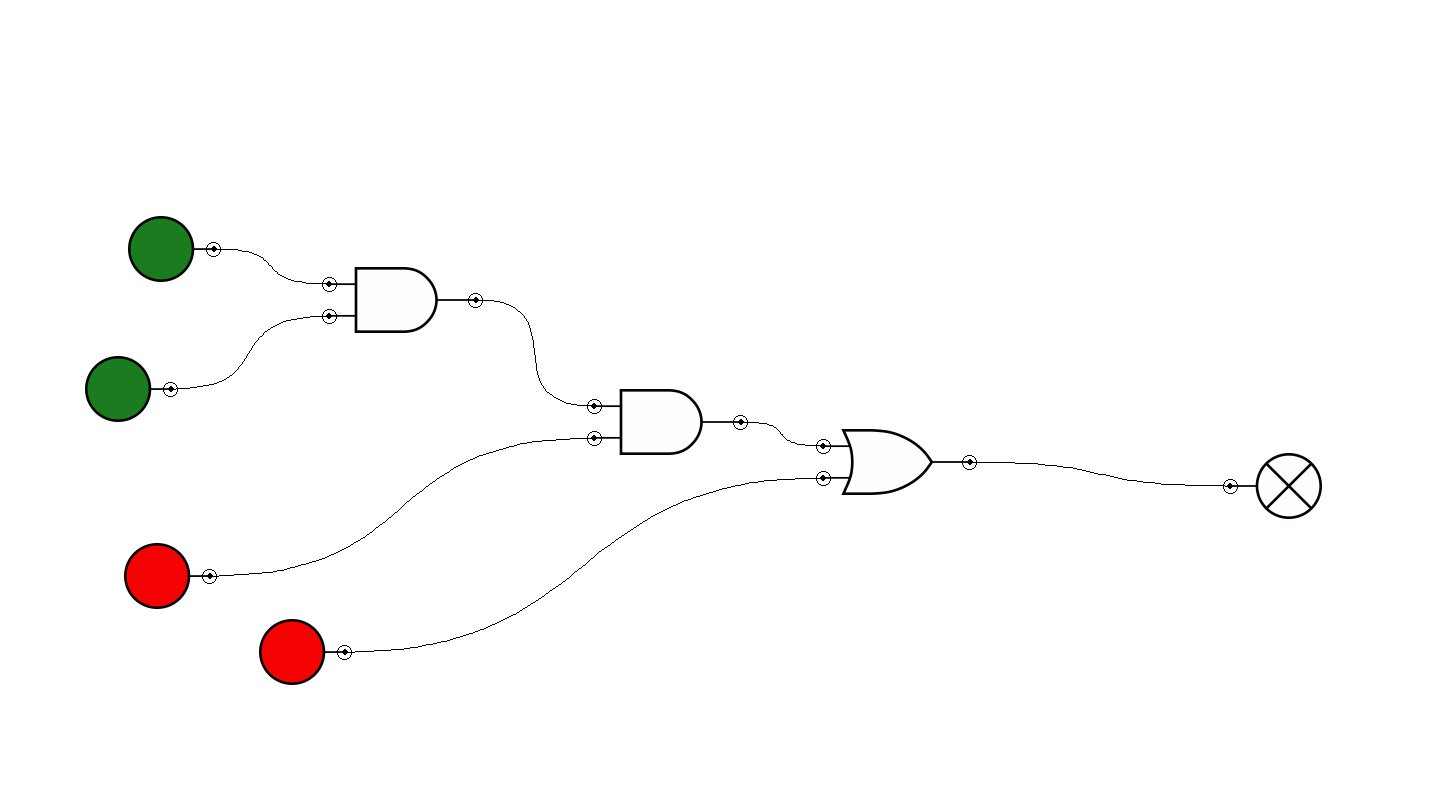and: (587, 389, 748, 455), (322, 267, 483, 333)
bulb: (1223, 453, 1322, 519)
or: (816, 429, 977, 495)
switch_False: (259, 619, 352, 685), (124, 543, 217, 609)
switch_True: (85, 356, 178, 422), (128, 216, 221, 282)
